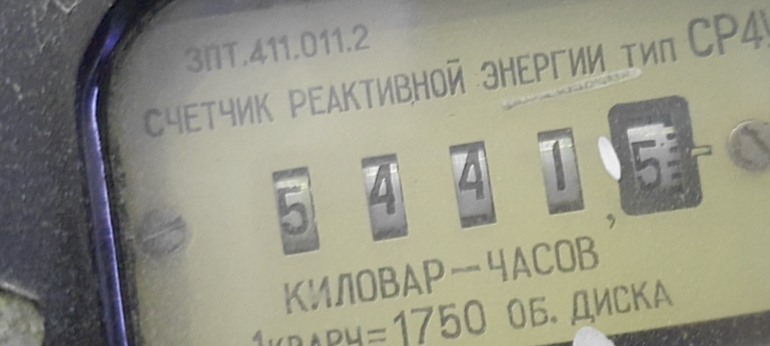1: (542, 137, 572, 197)
4: (448, 142, 492, 211), (361, 157, 402, 222)
5: (626, 132, 668, 198), (270, 181, 315, 242)
screen: (241, 70, 730, 287)
